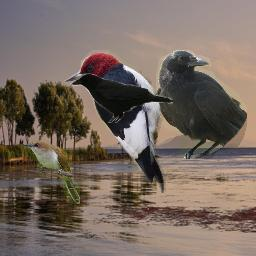Crow: (156, 50, 247, 159), (68, 71, 173, 123)
Cuckoo: (21, 141, 80, 204)
Woodpecker: (59, 50, 173, 193)
